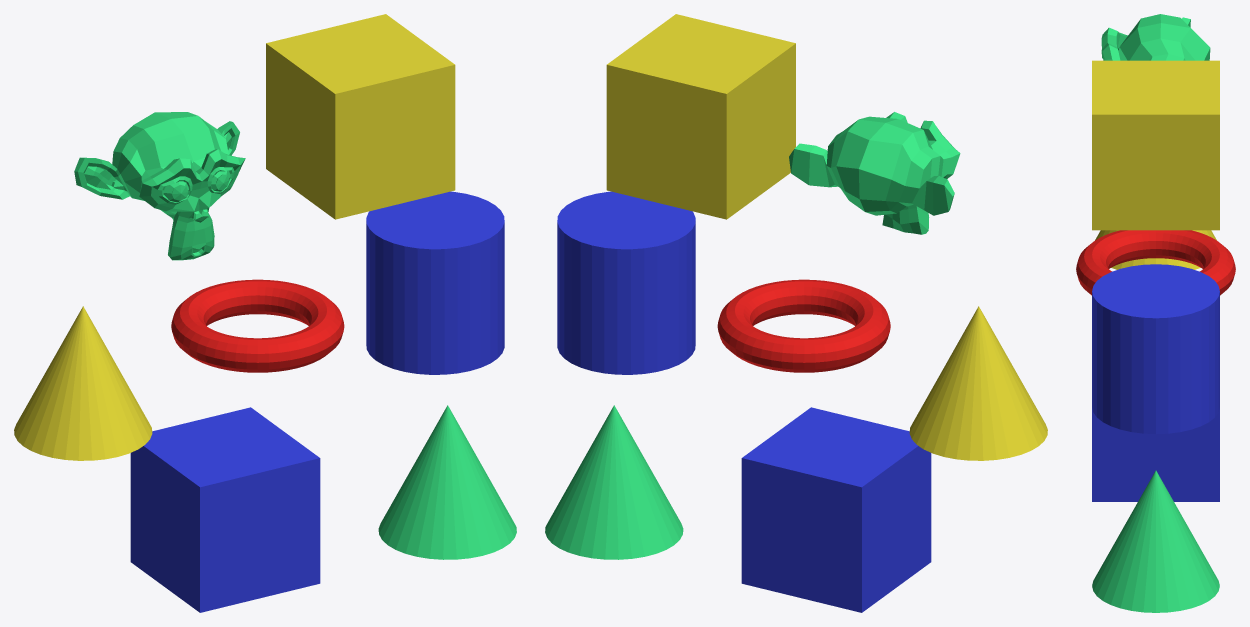
3 views of the same model, side by side, from view 1: azimuth 30°, elevation 25°; view 2: azimuth 150°, elevation 25°; view 3: azimuth 270°, elevation 25° (orthographic). The views are drawn at different scales.
Parts seen in each view (by area): view 1: Cube, Cube.001, Cylinder, Suzanne, Cone.001, Cone, Torus; view 2: Cube, Cube.001, Cylinder, Suzanne, Cone.001, Cone, Torus; view 3: Cube, Cylinder, Cone.001, Cube.001, Torus, Suzanne, Cone.
Boxes of the visible parts, x1,y1,x2,y2 form: Cube: [266, 14, 455, 219]; Cube.001: [130, 407, 320, 612]; Cylinder: [366, 191, 504, 374]; Suzanne: [74, 112, 245, 260]; Cone.001: [378, 405, 516, 559]; Cone: [14, 306, 152, 460]; Torus: [171, 279, 344, 372]; Cube: [606, 14, 795, 219]; Cube.001: [741, 407, 931, 612]; Cylinder: [557, 191, 695, 374]; Suzanne: [789, 112, 960, 234]; Cone.001: [545, 405, 683, 559]; Cone: [909, 306, 1047, 460]; Torus: [717, 279, 890, 372]; Cube: [1092, 60, 1219, 230]; Cylinder: [1092, 264, 1219, 434]; Cone.001: [1092, 470, 1219, 612]; Cube.001: [1092, 408, 1219, 501]; Torus: [1076, 230, 1235, 295]; Suzanne: [1101, 14, 1210, 60]; Cone: [1095, 230, 1216, 269].
Size of the model in its own units: 8.07 by 7.92 by 2.5.
